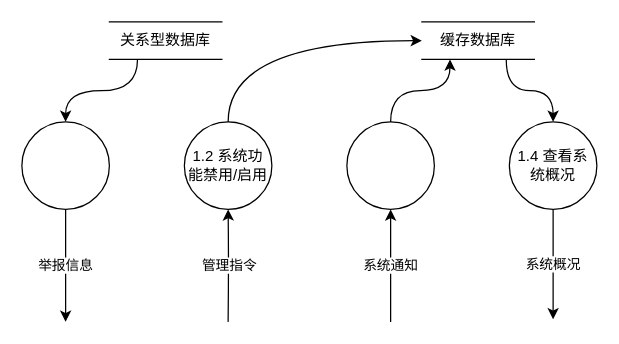
The diagram is 619 pixels wide and 344 high, and some of its shapes have lost their labels. Each missing label, with the box of its shape:
1.1 系统收件箱查看: (21, 121, 109, 209)
1.3 发布系统通知: (346, 121, 434, 209)
